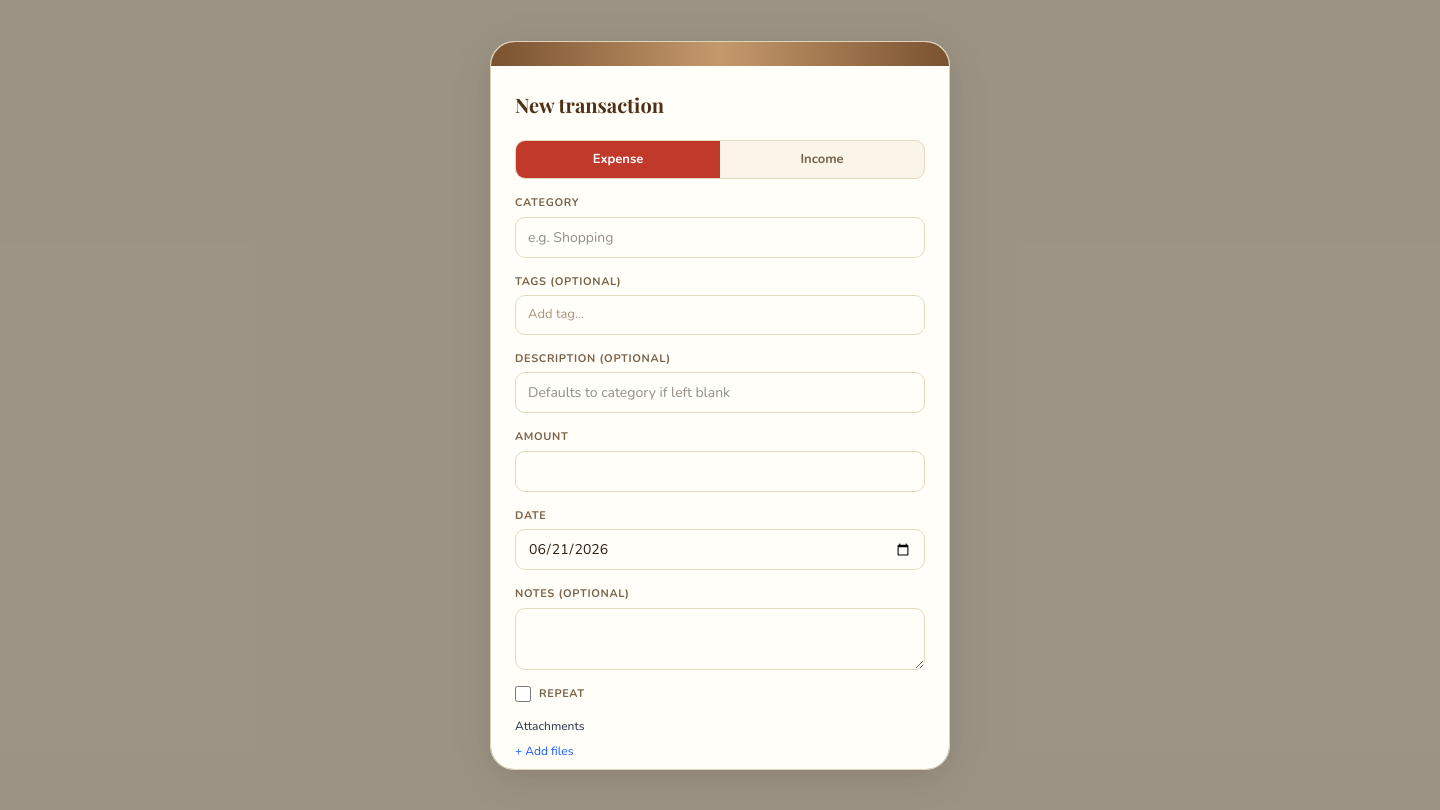
Test: TransactionForm › pre-fills description when category is typed and description is empty
The width and height of the screenshot is (1440, 810).
Step 1. Type "Shopping" into the field labelled "Category" → [720, 237], box [515,216,925,258]
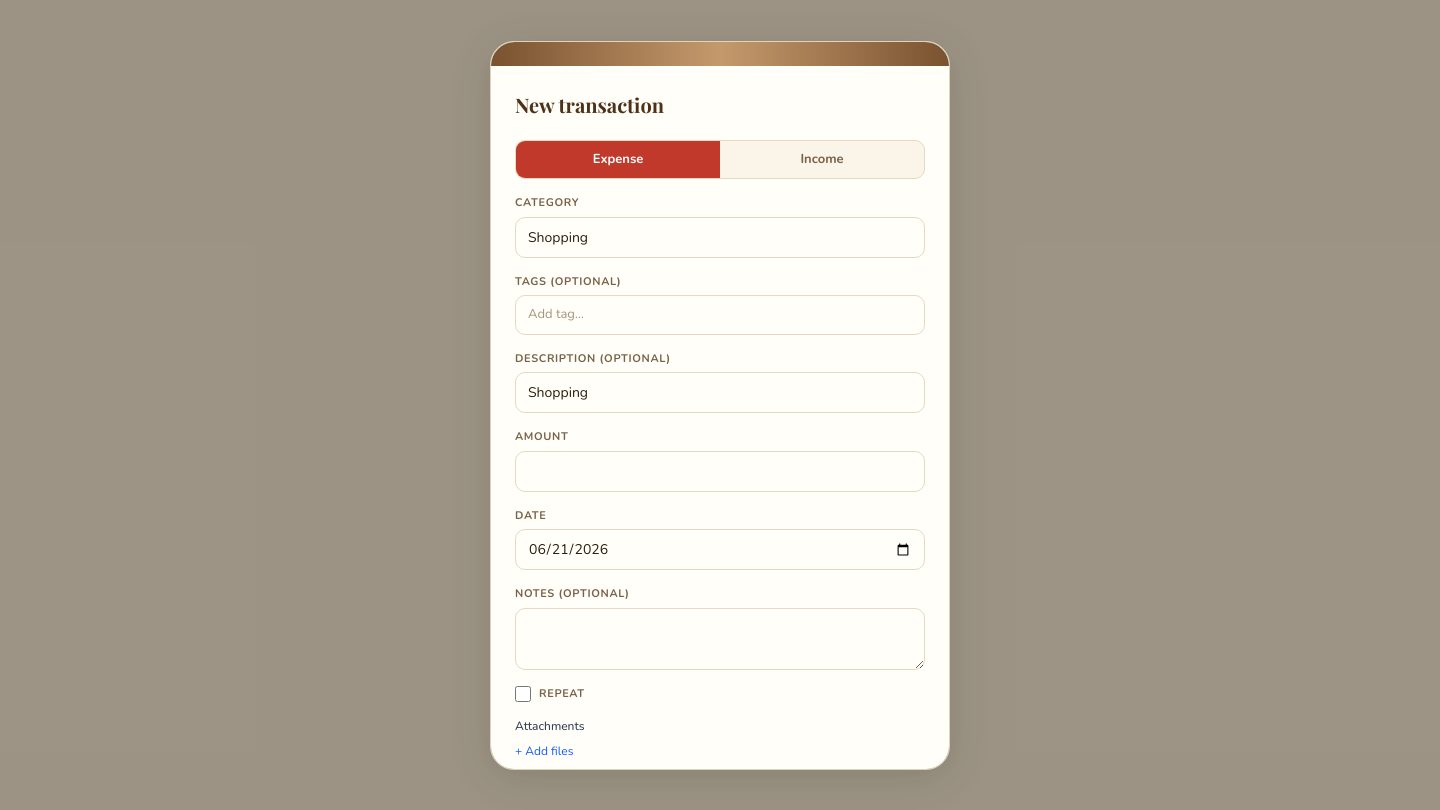
Expected: the field labelled "Description (optional)" holds "Shopping", [515,372,925,413]
